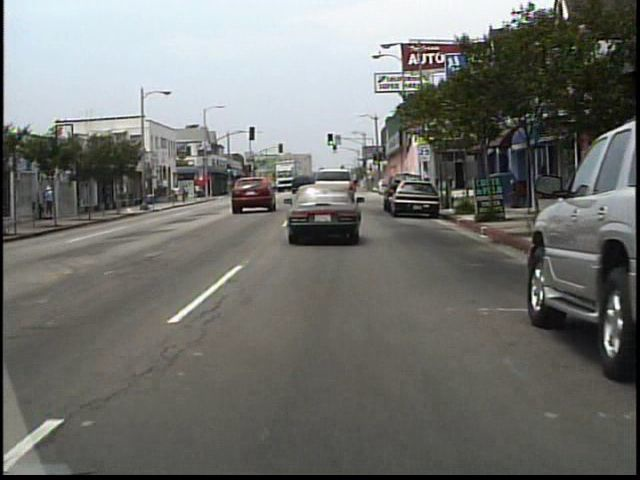person: (46, 183, 57, 219), (174, 184, 181, 204), (182, 184, 188, 203)
